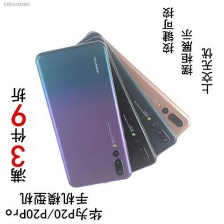phone: (40, 34, 160, 187), (53, 31, 180, 166), (63, 30, 192, 152), (34, 39, 132, 190)
